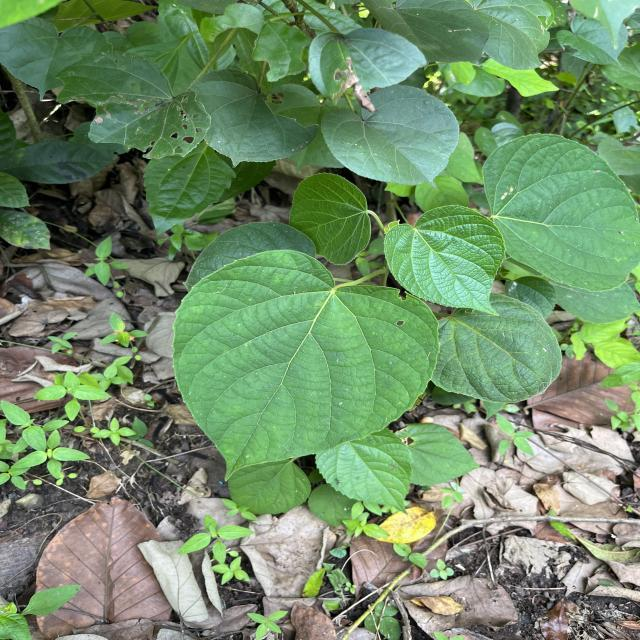Clerodendrum infortunatum: (170, 246, 444, 482), (480, 132, 640, 292), (429, 292, 564, 404), (382, 204, 506, 318), (288, 171, 372, 265)
